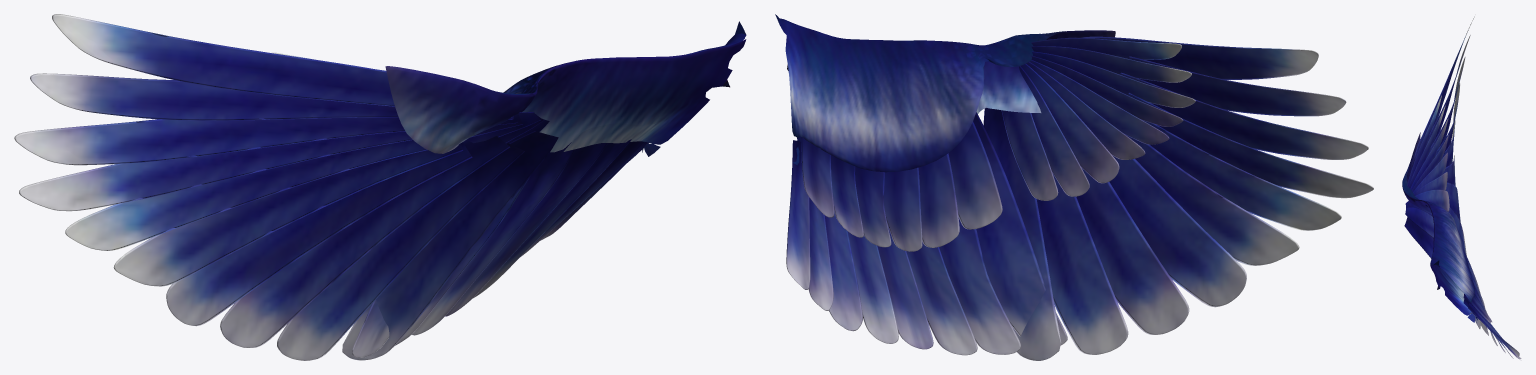
The model's file is AlaIzq2.obj.
3 renders of one model, left to right at view 1: azimuth 30°, elevation 25°; view 2: azimuth 150°, elevation 25°; view 3: azimuth 270°, elevation 25°, orthographic. The views are drawn at different scales.
Visible parts, largest first — view 1: pajaro_azul.003; view 2: pajaro_azul.003; view 3: pajaro_azul.003.
Boxes of the visible parts, x1,y1,x2,y2 form: pajaro_azul.003: (14, 14, 746, 360); pajaro_azul.003: (775, 14, 1373, 360); pajaro_azul.003: (1402, 14, 1521, 359).
Size of the model in its own units: 30.75 by 17.85 by 8.45.
Materials: 2 (2 with a texture image).
